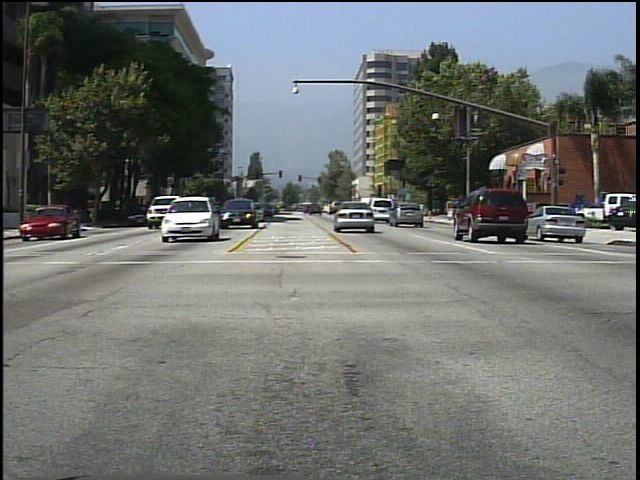person: (480, 194, 499, 229), (445, 196, 458, 224)
